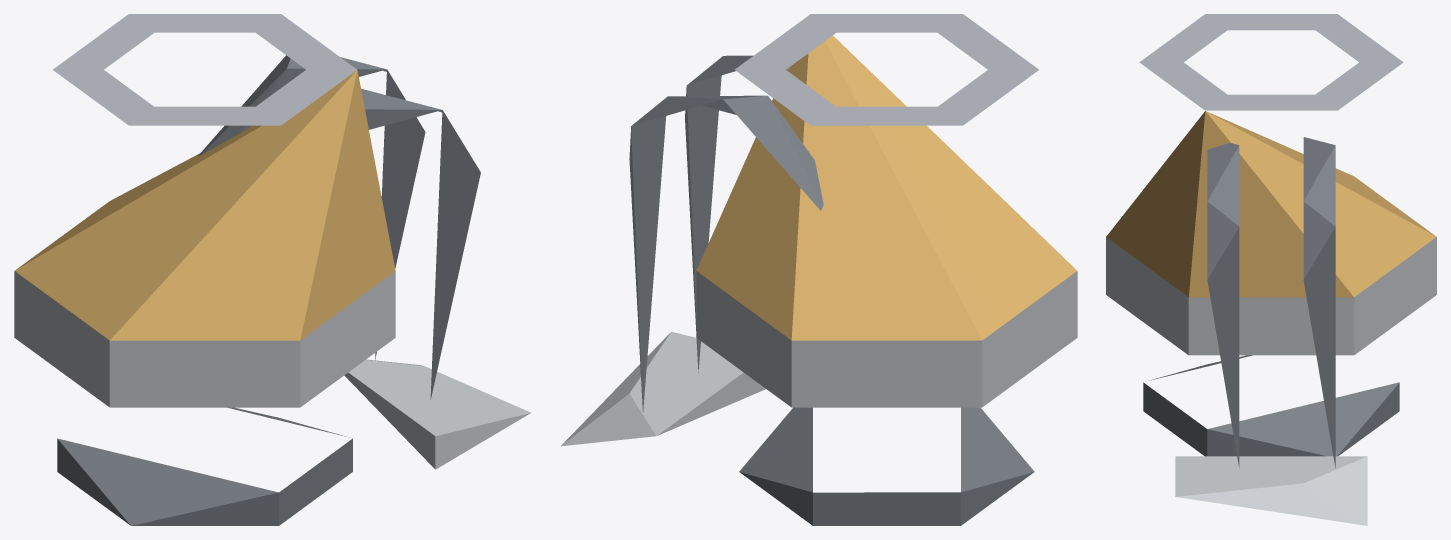
Rendered from machine_barrel.lod.glb.
The picture shows the model from 3 angles, left to right: view 1: azimuth 30°, elevation 25°; view 2: azimuth 150°, elevation 25°; view 3: azimuth 270°, elevation 25°; orthographic projection. The views are drawn at different scales.
Parts seen in each view (by area): view 1: machine_barrel; view 2: machine_barrel; view 3: machine_barrel.
Boxes of the visible parts, x1,y1,x2,y2 form: machine_barrel: [14, 14, 530, 525]; machine_barrel: [561, 14, 1077, 525]; machine_barrel: [1106, 14, 1436, 525].
Bounding box in the file's own units: 0.6464 × 0.6 × 0.5155.
